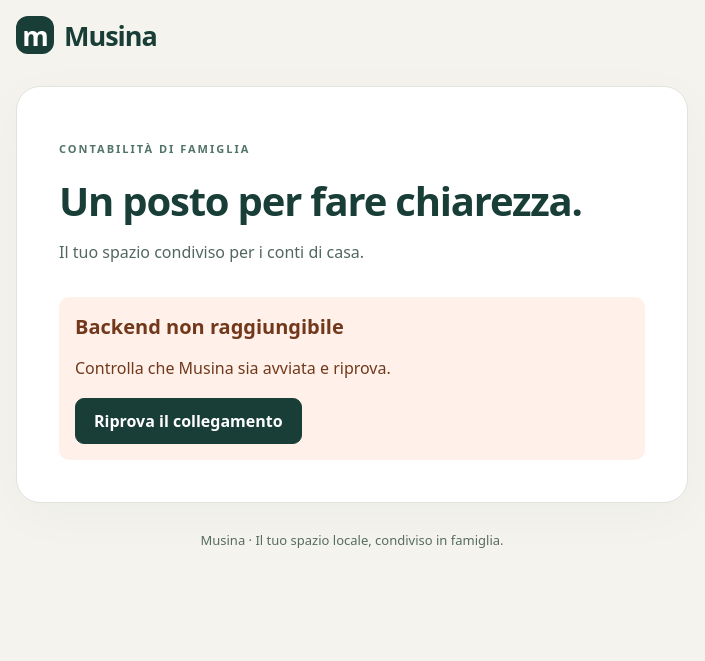
Test: Collegamento Musina › se il backend non risponde offre un retry che verifica nuovamente
Expected: the message shows "Backend non raggiungibile", [75, 313, 344, 340]
Click the button "Riprova il collegamento".
click(188, 421)  # box [75, 398, 302, 444]
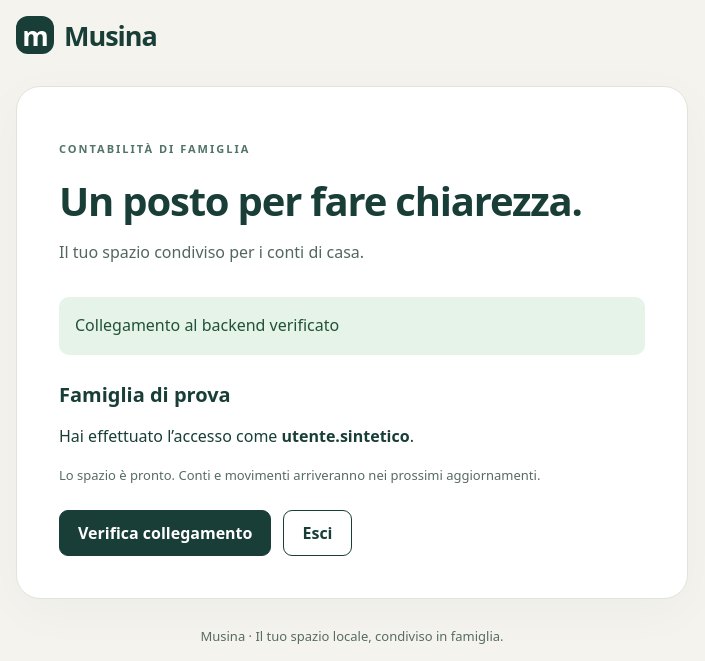
Result: the heading "Famiglia di prova" is shown at [59, 381, 231, 408]
